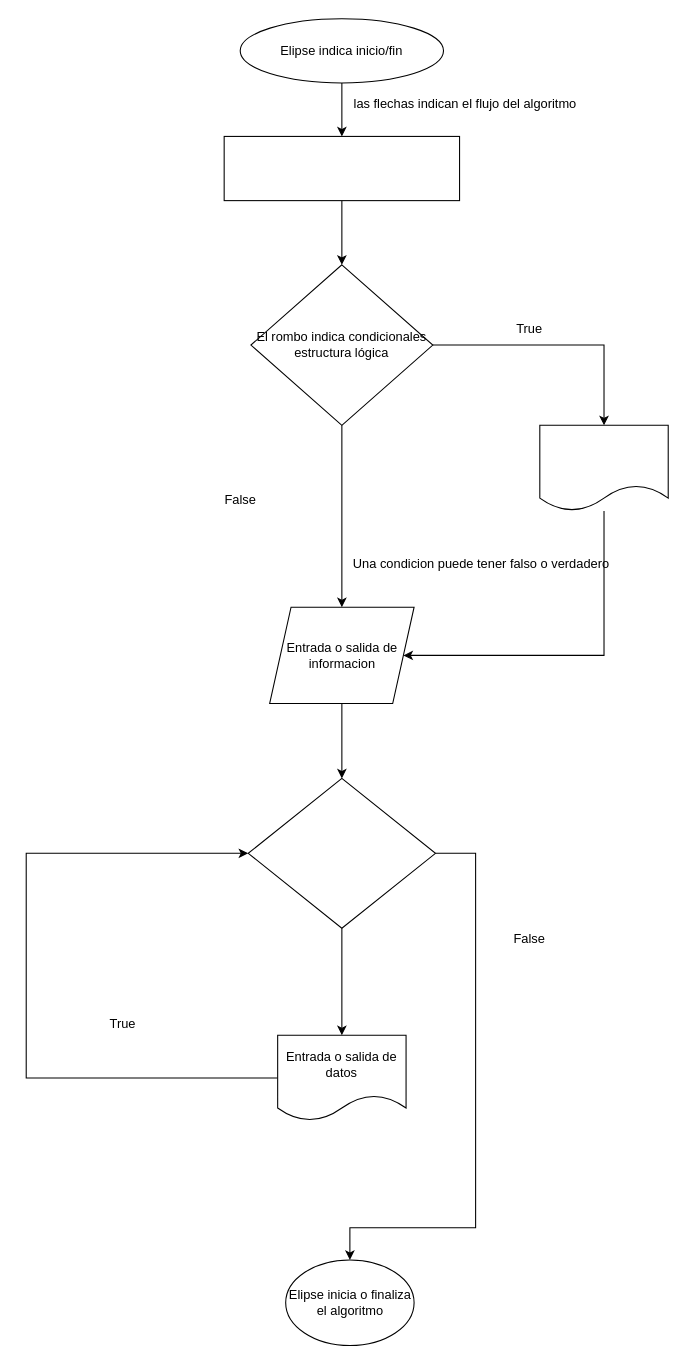
The diagram is 687 pixels wide and 1364 high, and some of its shapes have lost their labels. The shapes that lost their labels are listed below. From the top down, each one's centre as x and y in pixels, then its label:
point (341, 168): Declarar variables o desarrollar procesos en el flujo del codigo
point (603, 467): Muestra un texto en pantalla
point (341, 852): Un ciclo es la estructura de repetición termina hasta cumplir una condición
